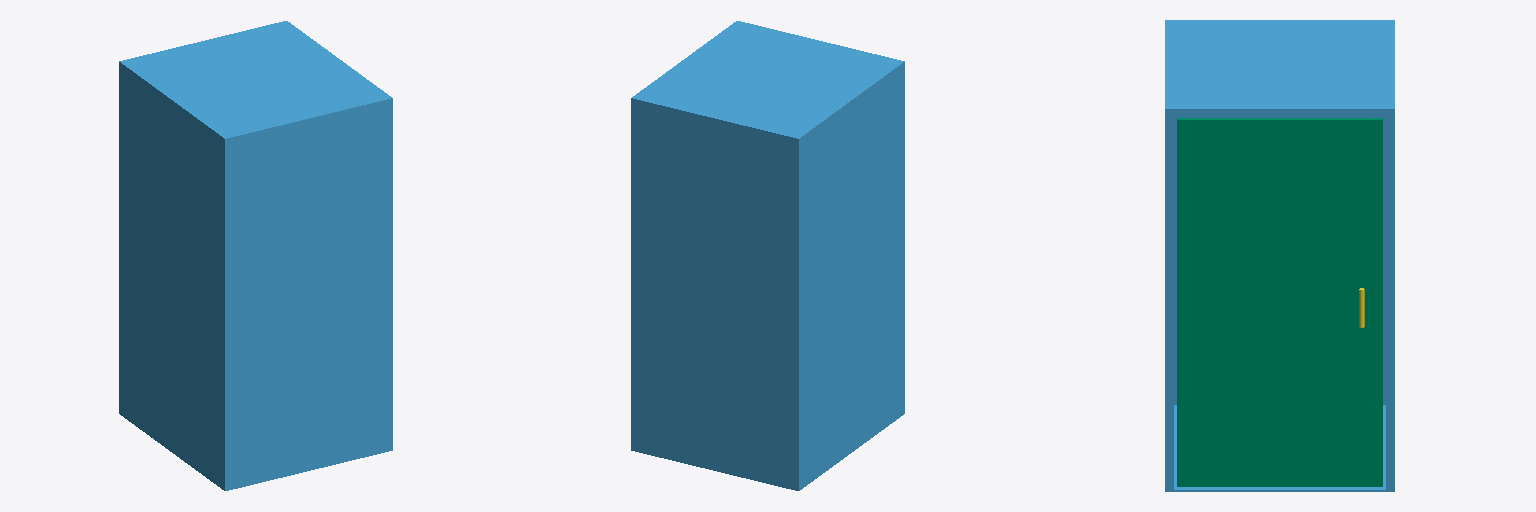
URDF robot description (my_cabinet):
<?xml version="1.0" ?>
<robot name="my_cabinet">
	<link name="world"/>
	<joint name="virtual_joint" type="fixed">
		<parent link="world"/>
		<child link="base_cabinet_link"/>
		<origin xyz="0.0 0.0 0.0" rpy="0.0 0.0 0.0"/>
	</joint>
	<link name="base_cabinet_link">
		<visual>
			<origin xyz="0.0 0.0 -0.3925957363618293" rpy="0.0 0.0 0.0"/>
			<geometry>
				<box size="0.4 0.4378515616312514 0.004"/>
			</geometry>
		</visual>
		<collision name="base_cabinet_link_collision_0">
			<origin xyz="0.0 0.0 -0.3925957363618293" rpy="0.0 0.0 0.0"/>
			<geometry>
				<box size="0.4 0.4378515616312514 0.004"/>
			</geometry>
		</collision>
		<visual>
			<origin xyz="0.0 0.20992578081562568 0.007" rpy="0.0 0.0 0.0"/>
			<geometry>
				<box size="0.4 0.018 0.8031914727236587"/>
			</geometry>
		</visual>
		<collision name="base_cabinet_link_collision_1">
			<origin xyz="0.0 0.20992578081562568 0.007" rpy="0.0 0.0 0.0"/>
			<geometry>
				<box size="0.4 0.018 0.8031914727236587"/>
			</geometry>
		</collision>
		<visual>
			<origin xyz="0.0 -0.20992578081562568 0.007" rpy="0.0 0.0 0.0"/>
			<geometry>
				<box size="0.4 0.018 0.8031914727236587"/>
			</geometry>
		</visual>
		<collision name="base_cabinet_link_collision_2">
			<origin xyz="0.0 -0.20992578081562568 0.007" rpy="0.0 0.0 0.0"/>
			<geometry>
				<box size="0.4 0.018 0.8031914727236587"/>
			</geometry>
		</collision>
		<visual>
			<origin xyz="0.0 0.0 0.3995957363618293" rpy="0.0 0.0 0.0"/>
			<geometry>
				<box size="0.4 0.4378515616312514 0.018"/>
			</geometry>
		</visual>
		<collision name="base_cabinet_link_collision_3">
			<origin xyz="0.0 0.0 0.3995957363618293" rpy="0.0 0.0 0.0"/>
			<geometry>
				<box size="0.4 0.4378515616312514 0.018"/>
			</geometry>
		</collision>
		<visual>
			<origin xyz="-0.191 0.0 0.007" rpy="0.0 0.0 0.0"/>
			<geometry>
				<box size="0.018 0.4378515616312514 0.8031914727236587"/>
			</geometry>
		</visual>
		<collision name="base_cabinet_link_collision_4">
			<origin xyz="-0.191 0.0 0.007" rpy="0.0 0.0 0.0"/>
			<geometry>
				<box size="0.018 0.4378515616312514 0.8031914727236587"/>
			</geometry>
		</collision>
		<inertial>
			<mass value="0.200000"/>
			<inertia ixx="0.013947" ixy="0.0" ixz="0.0" iyy="0.013419" iyz="0.0" izz="0.005862"/>
		</inertial>
	</link>
	<link name="door_link">
		<visual>
			<origin xyz="0.0 -0.1859257808156257 0.0"/>
			<geometry>
				<box size="0.018 0.3918515616312514 0.7711914727236586"/>
			</geometry>
		</visual>
		<collision name="door_link_collision">
			<origin xyz="0.0 -0.1859257808156257 0.0"/>
			<geometry>
				<box size="0.018 0.3918515616312514 0.7711914727236586"/>
			</geometry>
		</collision>
		<inertial>
			<mass value="0.200000"/>
			<inertia ixx="0.012471" ixy="0.0" ixz="0.0" iyy="0.009918" iyz="0.0" izz="0.002565"/>
		</inertial>
	</link>
	<joint name="door_joint" type="revolute">
		<origin xyz="0.191 -0.1859257808156257 0.0" rpy="0.000000 -0.000000 3.141593"/>
		<axis xyz="0 0 1"/>
		<parent link="base_cabinet_link"/>
		<child link="door_link"/>
		<limit effort="50" lower="0" upper="-1.5707963267948966" velocity="10"/>
		<dynamics friction="1.0"/>
	</joint>
	<link name="handle_link">
		<visual>
			<origin xyz="0.0 0.0 0.0" rpy="0.0 0.0 0.0"/>
			<geometry>
				<cylinder length="0.08" radius="0.005"/>
			</geometry>
		</visual>
		<collision name="handle_link_collision_0">
			<origin xyz="0.0 0.0 0.0" rpy="0.0 0.0 0.0"/>
			<geometry>
				<cylinder length="0.08" radius="0.005"/>
			</geometry>
		</collision>
		<visual>
			<origin xyz="-0.01 0.0 0.02" rpy="0.0 1.5707963267948966 0.0"/>
			<geometry>
				<cylinder length="0.02" radius="0.003"/>
			</geometry>
		</visual>
		<collision name="handle_link_collision_1">
			<origin xyz="-0.01 0.0 0.02" rpy="0.0 1.5707963267948966 0.0"/>
			<geometry>
				<cylinder length="0.01" radius="0.003"/>
			</geometry>
		</collision>
		<visual>
			<origin xyz="-0.01 0.0 -0.02" rpy="0.0 1.5707963267948966 0.0"/>
			<geometry>
				<cylinder length="0.02" radius="0.003"/>
			</geometry>
		</visual>
		<collision name="handle_link_collision_2">
			<origin xyz="-0.01 0.0 -0.02" rpy="0.0 1.5707963267948966 0.0"/>
			<geometry>
				<cylinder length="0.02" radius="0.003"/>
			</geometry>
		</collision>
		<inertial>
			<mass value="0.050000"/>
			<inertia ixx="0.000027" ixy="0.0" ixz="0.0" iyy="0.000029" iyz="0.0" izz="0.000003"/>
		</inertial>
	</link>
	<joint name="handle_joint" type="fixed">
		<origin xyz="-0.028999999999999998 -0.3418515616312514 0.0" rpy="0.000000 -0.000000 3.141593"/>
		<parent link="door_link"/>
		<child link="handle_link"/>
	</joint>
	<gazebo reference="base_cabinet_link">
		<sensor name="main_sensor" type="contact">
			<selfCollide>true</selfCollide>
			<alwaysOn>true</alwaysOn>
			<updateRate>5.0</updateRate>
			<material>Gazebo/Red</material>
			<contact>
				<collision>base_cabinet_link_collision_0_collision</collision>
				<collision>base_cabinet_link_collision_1_collision</collision>
				<collision>base_cabinet_link_collision_2_collision</collision>
				<collision>base_cabinet_link_collision_3_collision</collision>
				<collision>base_cabinet_link_collision_4_collision</collision>
			</contact>
			<plugin name="gazebo_ros_bumper_controller" filename="libgazebo_ros_bumper.so">
				<bumperTopicName>/contact</bumperTopicName>
				<frameName>world</frameName>
			</plugin>
		</sensor>
	</gazebo>
	<gazebo reference="door_link">
		<sensor name="main_sensor" type="contact">
			<selfCollide>true</selfCollide>
			<alwaysOn>true</alwaysOn>
			<updateRate>5.0</updateRate>
			<material>Gazebo/Red</material>
			<contact>
				<collision>door_link_collision_collision</collision>
			</contact>
			<plugin name="gazebo_ros_bumper_controller" filename="libgazebo_ros_bumper.so">
				<bumperTopicName>/contact_door</bumperTopicName>
				<frameName>contact_door</frameName>
			</plugin>
		</sensor>
	</gazebo>
</robot>

--- What the picture shows (computed from the rendered views, not written in the file) ---
Views: 3 orthographic renders of the robot side by side, from view 1: azimuth 30°, elevation 25°; view 2: azimuth 150°, elevation 25°; view 3: azimuth 270°, elevation 25°.
Model my_cabinet with 4 links and 3 joints (1 revolute, 2 fixed), rooted at world, posed all joints at 0.
Links seen in each view (by area): view 1: base_cabinet_link; view 2: base_cabinet_link; view 3: door_link, base_cabinet_link.
Boxes of the visible links, box(x1,y1,x2,y2) form: base_cabinet_link: box(119, 21, 392, 490); base_cabinet_link: box(631, 21, 904, 490); door_link: box(1177, 118, 1382, 486); base_cabinet_link: box(1165, 20, 1394, 491).
Size in the robot's own frame: 0.425 by 0.4379 by 0.8032 metres.
Geometry: primitives only (box / cylinder / sphere), no mesh files.
